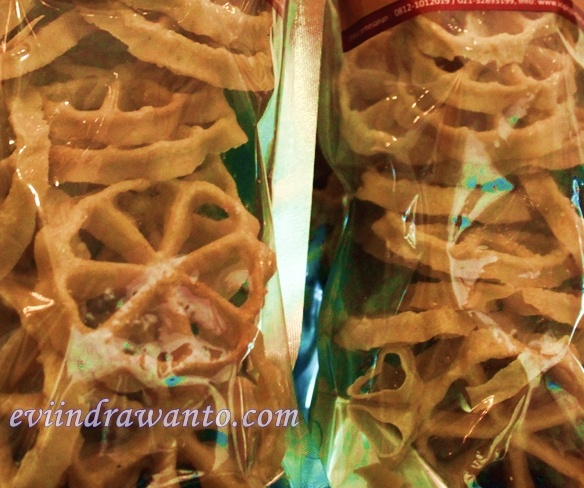kembang_goyang: (73, 178, 272, 389)
